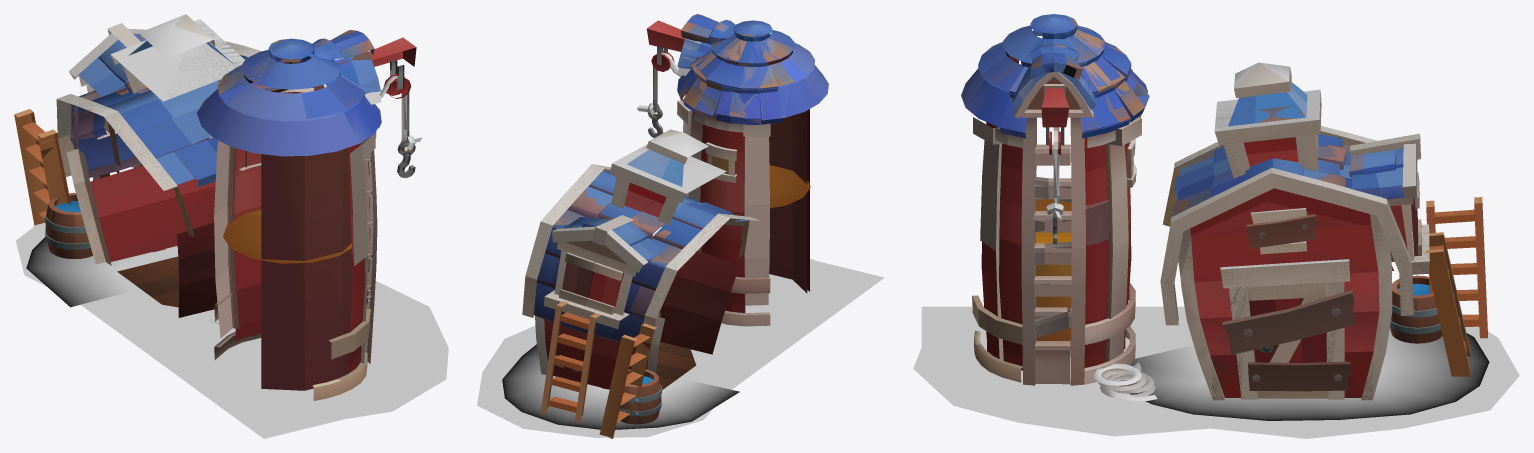
Rendered from SiloBarn.fbx.
The picture shows the model from 3 angles, left to right: view 1: azimuth 30°, elevation 25°; view 2: azimuth 150°, elevation 25°; view 3: azimuth 270°, elevation 25°; orthographic projection. The views are drawn at different scales.
Parts seen in each view (by area): view 1: BarnGround, SiloBaseNight, BarnRoof, BarnHouse, Silo, SiloWood, BarnTower, SiloBase, SiloRoof, BarnShadow, BarnRoof_RunDown, BarnLadder2 (+6 smaller); view 2: BarnRoof, BarnGround, BarnHouse, SiloWood, Silo, BarnShadow, BarnTower, SiloBaseNight, BarnRoof_RunDown, SiloRoof, SiloBase, SiloRoof_RunDown (+9 smaller); view 3: BarnHouse, BarnGround, SiloWood, BarnRoof, SiloBase, BarnShadow, BarnHouse_RunDown, BarnTower, Silo, BarnRoof_RunDown, SiloRoof, BarnDoor (+10 smaller).
Part boxes in pixels (x1,y1,x2,y2): BarnGround: (16,223,448,438); SiloBaseNight: (261,148,351,390); BarnRoof: (56,23,274,236); BarnHouse: (66,119,217,317); Silo: (197,31,381,156); SiloWood: (214,58,381,400); BarnTower: (110,14,244,101); SiloBase: (231,92,372,373); SiloRoof: (197,33,365,119); BarnShadow: (26,237,235,328); BarnRoof_RunDown: (57,24,270,235); BarnLadder2: (14,109,70,225); BarnRoof: (522,164,760,342); BarnGround: (477,259,884,437); BarnHouse: (535,204,739,389); SiloWood: (677,67,770,326); Silo: (677,14,828,124); BarnShadow: (502,344,739,429); BarnTower: (610,129,726,226); SiloBaseNight: (713,54,807,293); BarnRoof_RunDown: (523,164,758,341); SiloRoof: (677,20,814,123); SiloBase: (690,109,809,312); SiloRoof_RunDown: (679,14,794,118); BarnHouse: (1178,188,1412,400); BarnGround: (913,306,1519,438); SiloWood: (972,72,1141,385); BarnRoof: (1160,126,1429,325); SiloBase: (981,122,1131,384); BarnShadow: (1119,328,1489,420); BarnHouse_RunDown: (1178,208,1411,400); BarnTower: (1214,62,1321,178); Silo: (961,25,1149,138); BarnRoof_RunDown: (1161,126,1429,324); SiloRoof: (978,14,1147,133); BarnDoor: (1248,282,1327,398).
Size of the model in its own units: 4.13 by 4.79 by 7.67.
